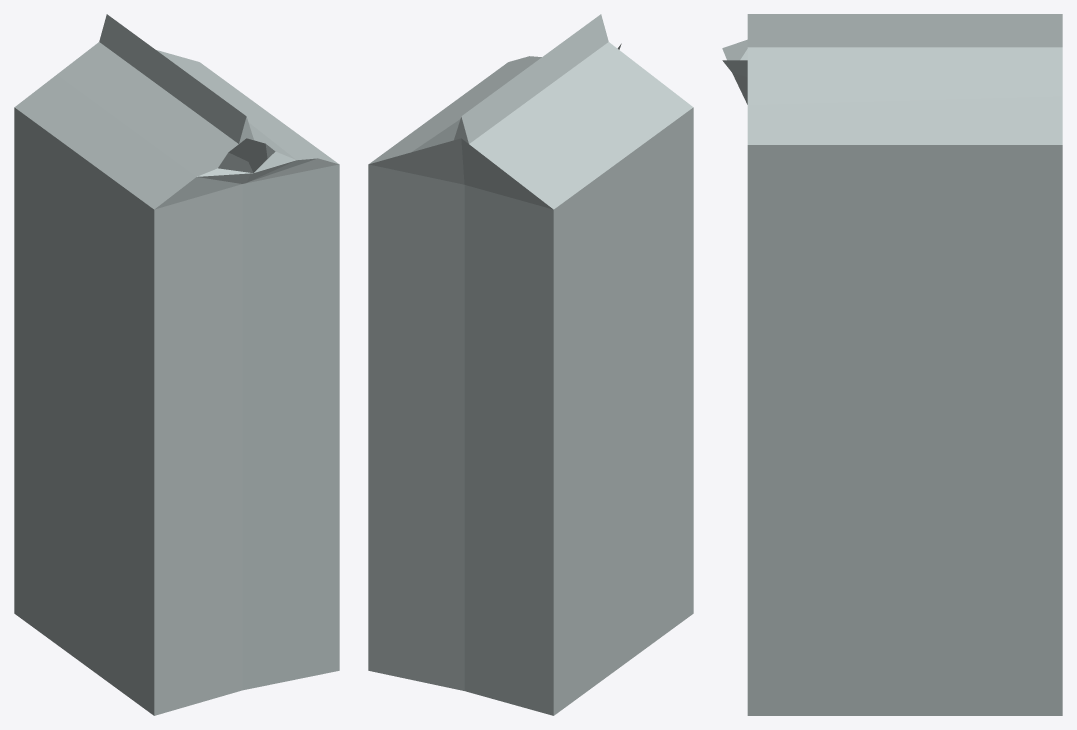
Rendered from milk.glb.
3 renders of one model, left to right at view 1: azimuth 30°, elevation 25°; view 2: azimuth 150°, elevation 25°; view 3: azimuth 270°, elevation 25°, orthographic. The views are drawn at different scales.
Visible parts, largest first — view 1: Cube; view 2: Cube; view 3: Cube.
Part boxes in pixels (x1=…): Cube: x1=14, y1=14, x2=339, y2=715; Cube: x1=368, y1=14, x2=693, y2=715; Cube: x1=722, y1=14, x2=1062, y2=715.
Size of the model in its own units: 1.53 by 4.56 by 2.16.
Materials: 1 (1 with a texture image).
